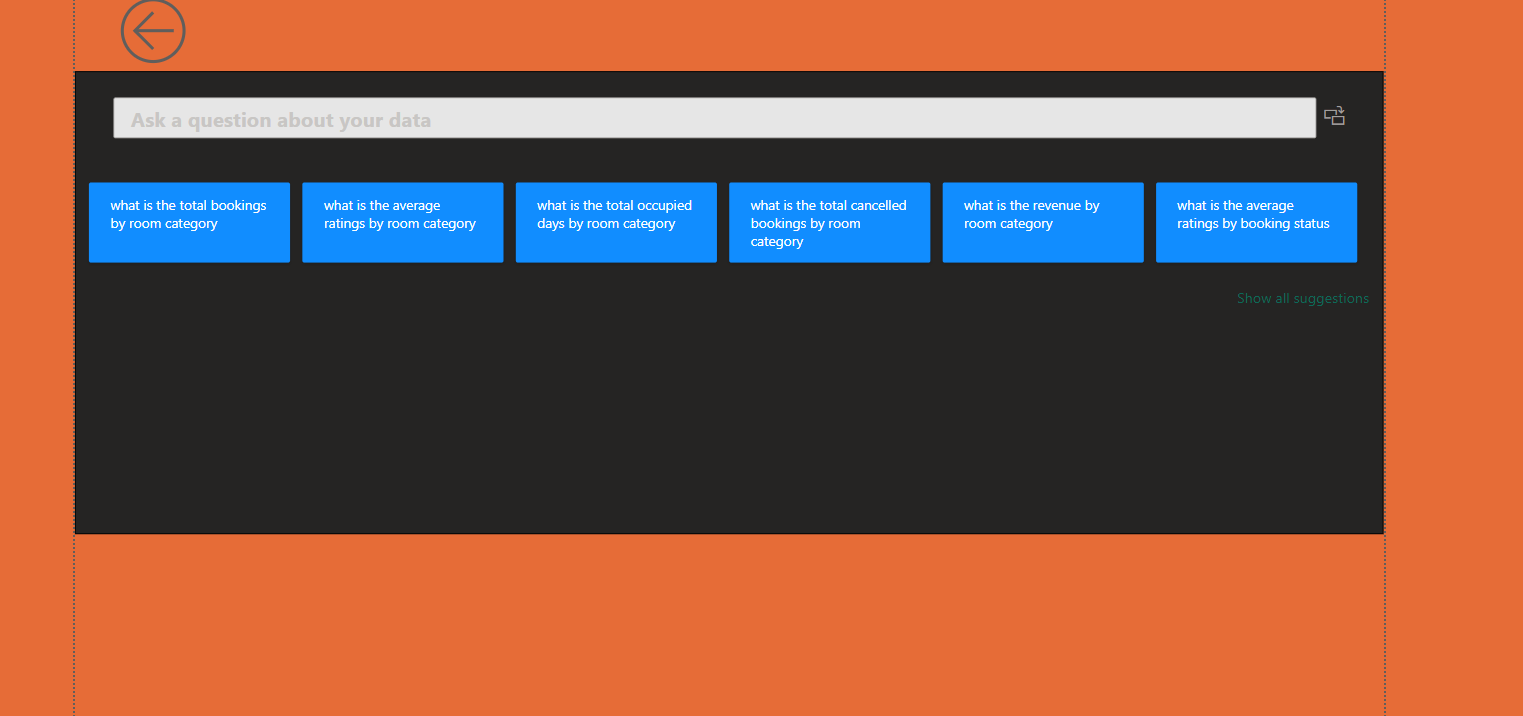

Layout of this report page (visuals, bound fields, positions):
{"tool":"powerbi","page":{"name":"Q & A","canvas":[1280,720],"ordinal":3},"visuals":[{"type":"qnaVisual","box":[0,79.6,1280.3,452.8],"z":0},{"type":"actionButton","box":[37,0,87.8,79.6],"z":1}]}

Visuals, with their boxes on the page's 1280x720 design canvas (x1, y1, x2, y2). These are canvas units, not pixel positions in the 1523x716 screenshot, which may show the page scaled, cropped or inside an application window:
qnaVisual: x1=0 y1=80 x2=1280 y2=532
actionButton: x1=37 y1=0 x2=125 y2=80
